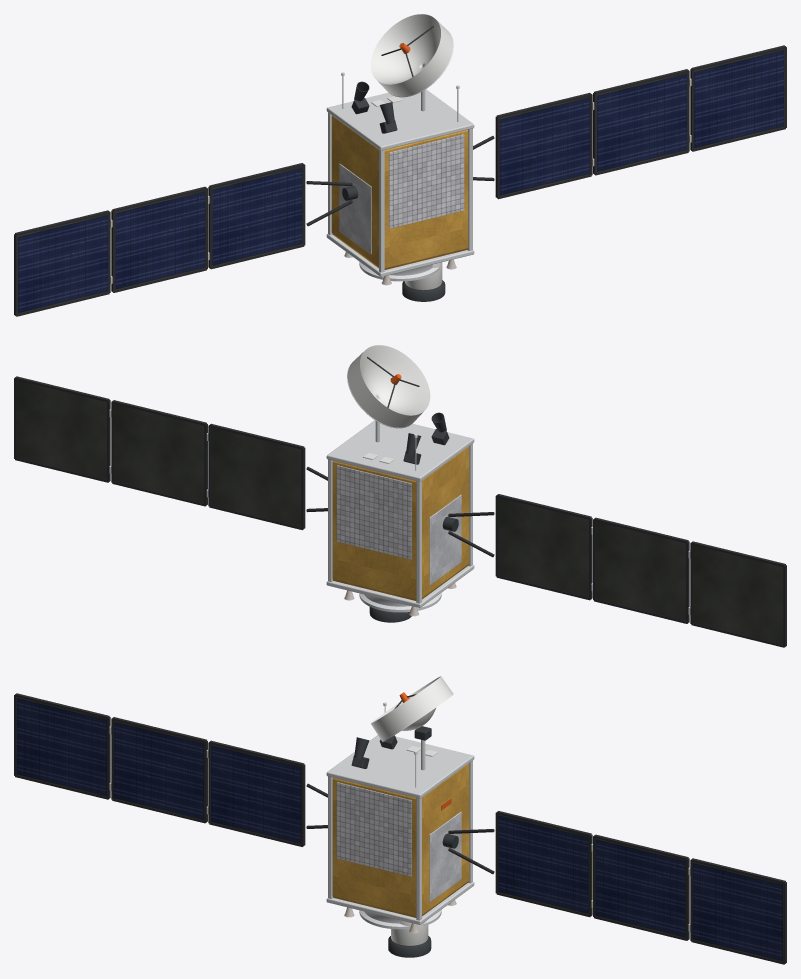
File: satellite.glb
3 views of the same model, one above another, from view 1: azimuth 30°, elevation 25°; view 2: azimuth 150°, elevation 25°; view 3: azimuth 330°, elevation 25° (orthographic).
Parts seen in each view (by area): view 1: Spacecraft, Wing_L, Wing_R; view 2: Spacecraft, Wing_L, Wing_R; view 3: Spacecraft, Wing_R, Wing_L.
Boxes of the visible parts, bbox=[...] form: Spacecraft: bbox=[326, 14, 474, 301]; Wing_L: bbox=[14, 163, 358, 316]; Wing_R: bbox=[473, 45, 786, 199]; Spacecraft: bbox=[326, 345, 474, 622]; Wing_L: bbox=[442, 494, 786, 647]; Wing_R: bbox=[14, 376, 327, 530]; Spacecraft: bbox=[326, 676, 474, 957]; Wing_R: bbox=[442, 811, 786, 964]; Wing_L: bbox=[14, 693, 327, 846].
Size of the model in its own units: 9.53 by 3.14 by 1.16.
12 materials, 5 textured.
